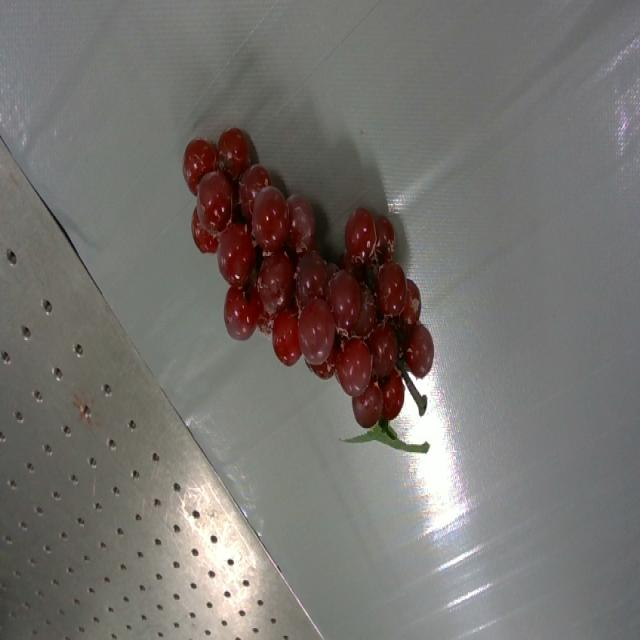grape: (184, 128, 434, 453)
